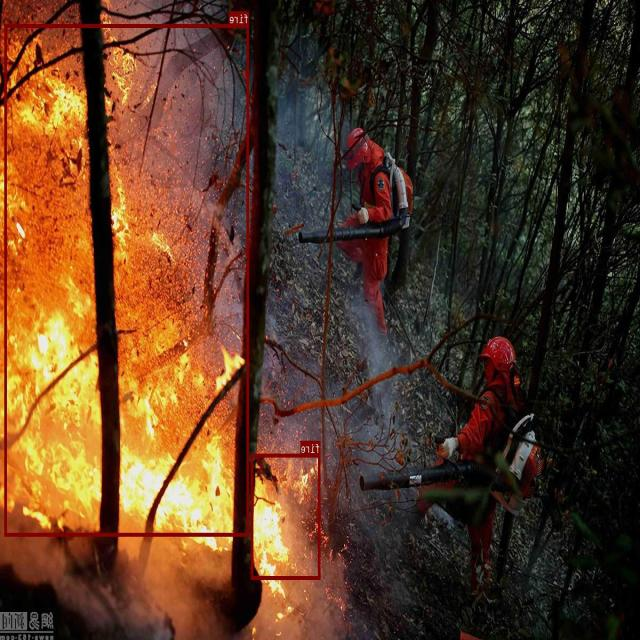fire: (5, 24, 250, 535), (251, 453, 321, 578)
